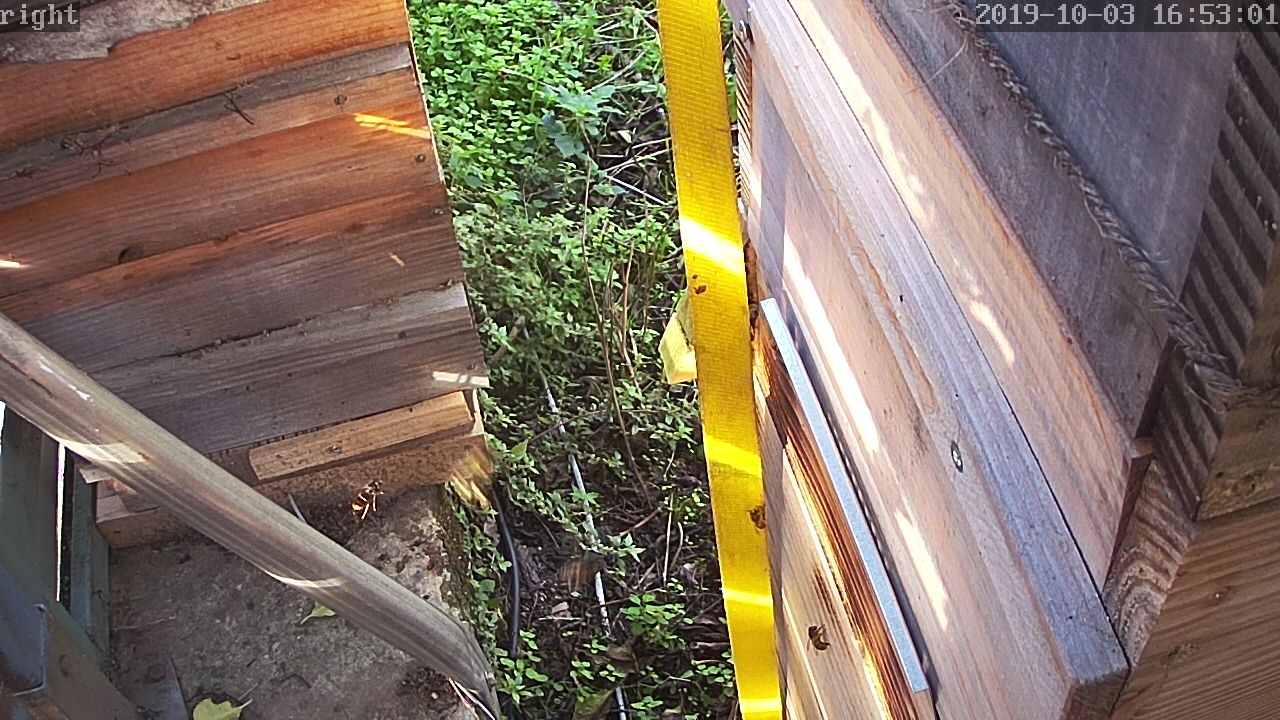bee: (800, 621, 833, 655), (747, 500, 769, 539)
hornet: (348, 475, 388, 517)
